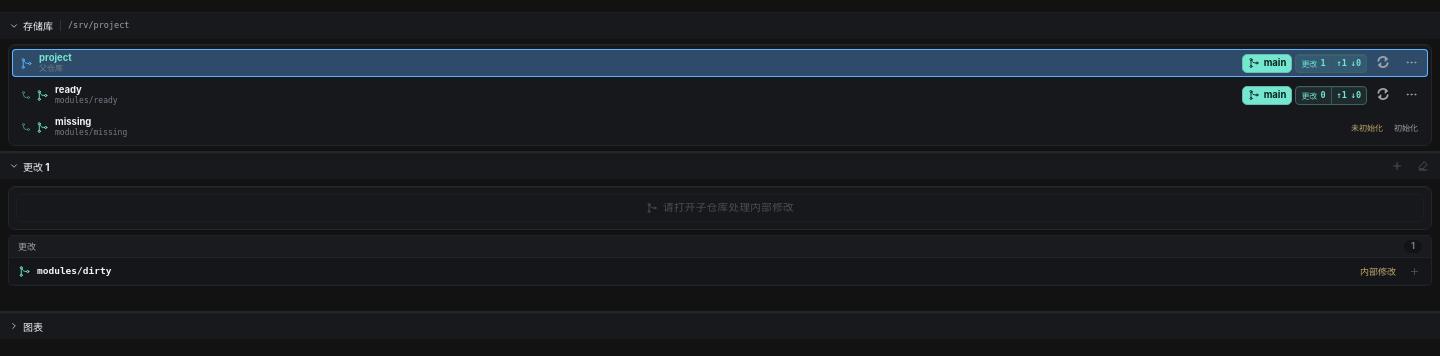
Test case: GitPane submodules › switches remote repository nodes inside the connected Git session
This screenshot has width=1440, height=356.
Click the button with aria-label "切换到 ready，记录版本已变化" at (86, 101), box [32,80,1242,110]
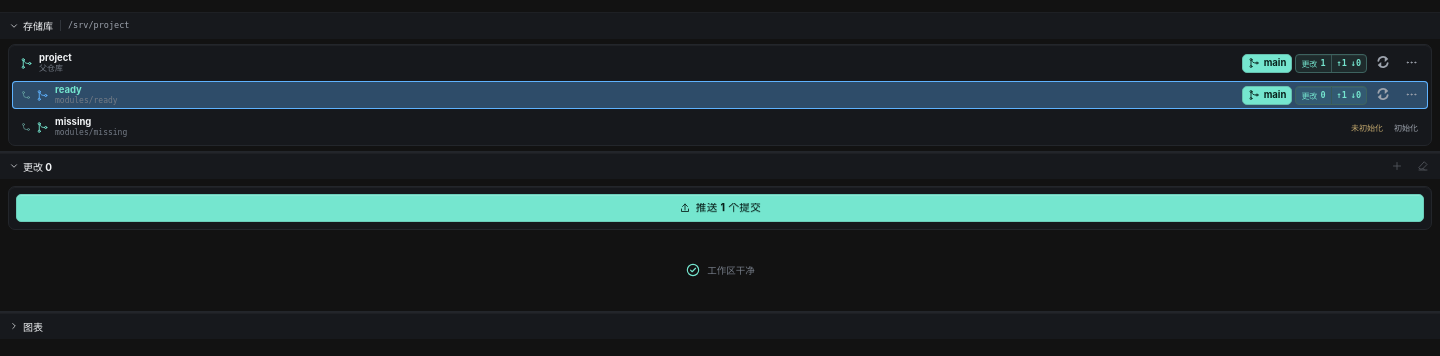
Now the button with aria-label "当前存储库 ready，记录版本已变化" is shown, box [32,80,1242,110]
